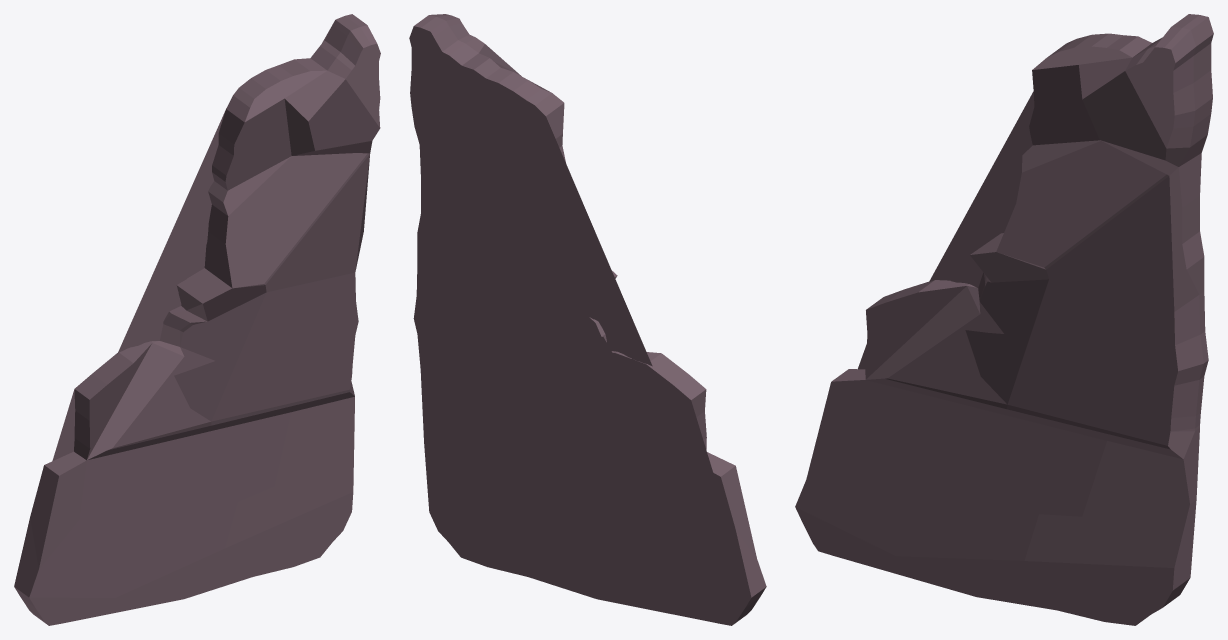
Rendered from SM_Rock_003.fbx.
3 renders of one model, left to right at view 1: azimuth 30°, elevation 25°; view 2: azimuth 150°, elevation 25°; view 3: azimuth 330°, elevation 25°, orthographic. The views are drawn at different scales.
Parts seen in each view (by area): view 1: SM_Rock.003; view 2: SM_Rock.003; view 3: SM_Rock.003.
Boxes of the visible parts, box(x1,y1,x2,y2) form: SM_Rock.003: box(14, 14, 380, 625); SM_Rock.003: box(409, 14, 766, 625); SM_Rock.003: box(795, 14, 1213, 625).
Bounding box in the file's own units: 305 × 1694 × 2501.
